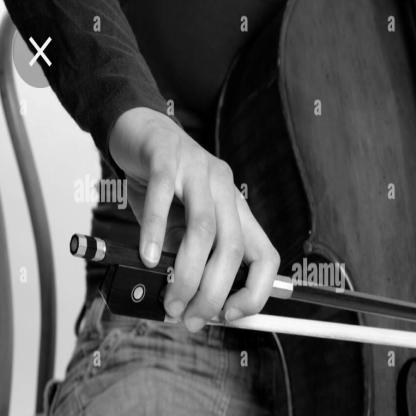good: (134, 112, 285, 356)
